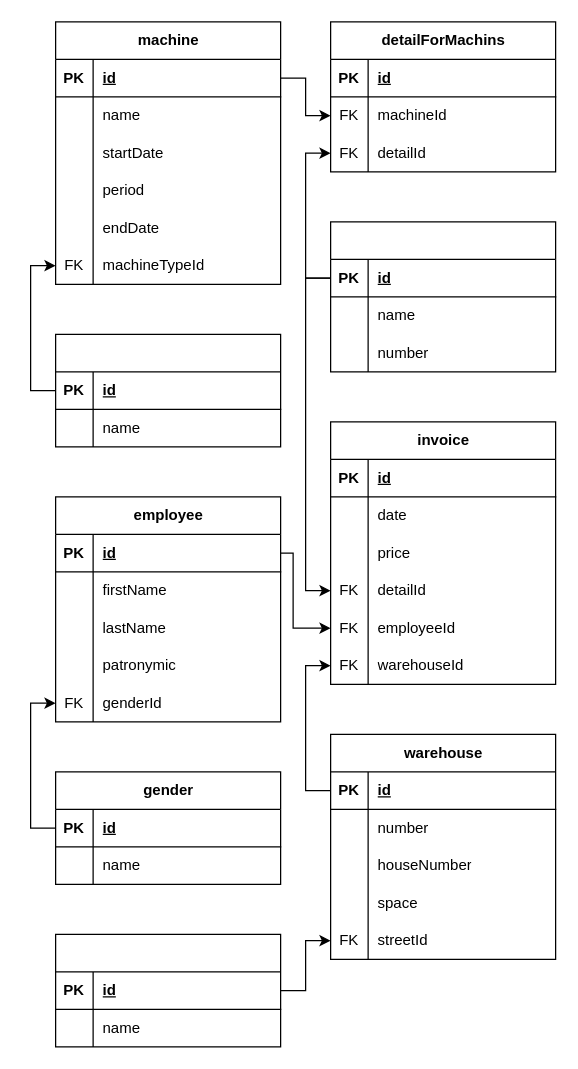
The diagram is 578 pixels wide and 1069 high, and some of its shapes have lost their labels. The box of each missing label's shape, as (x1, y1, x2, y2) in pixels:
detail: (329, 221, 556, 372)
machineType: (54, 333, 281, 447)
street: (54, 933, 281, 1047)
